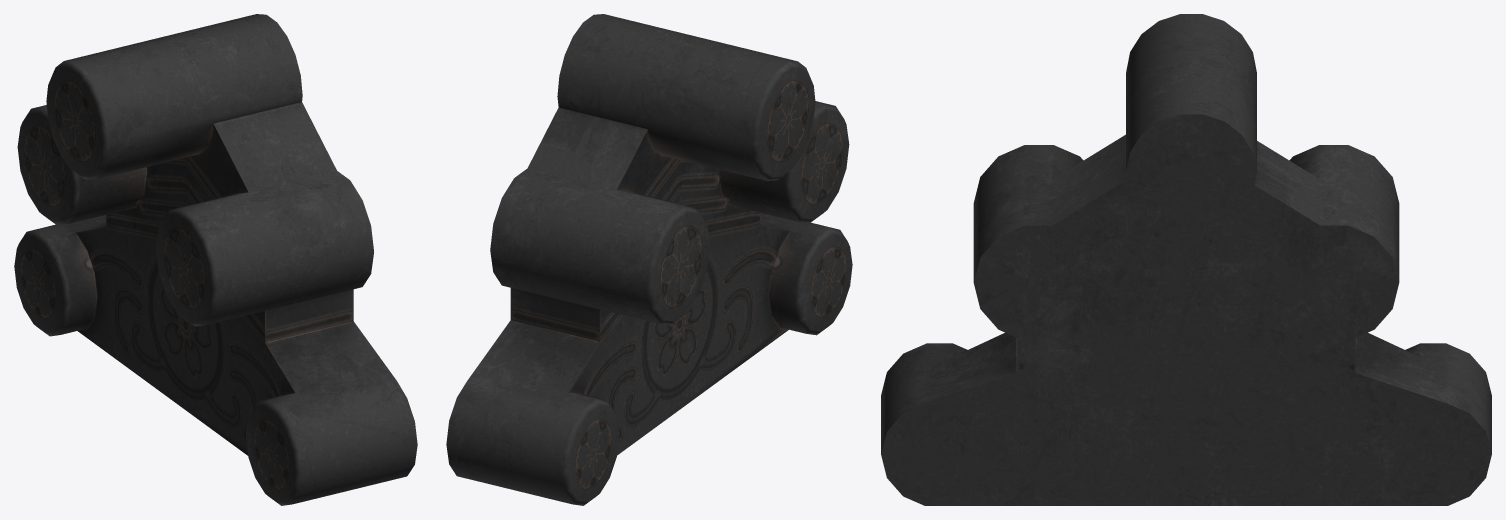
Rendered from SM_Roof_01_Ridge_End.fbx.
The picture shows the model from 3 angles, left to right: view 1: azimuth 30°, elevation 25°; view 2: azimuth 150°, elevation 25°; view 3: azimuth 270°, elevation 25°; orthographic projection. The views are drawn at different scales.
Parts seen in each view (by area): view 1: SM_Roof_01_Ridge_End_LOD0; view 2: SM_Roof_01_Ridge_End_LOD0; view 3: SM_Roof_01_Ridge_End_LOD0.
Boxes of the visible parts, bbox=[...] form: SM_Roof_01_Ridge_End_LOD0: bbox=[14, 14, 417, 505]; SM_Roof_01_Ridge_End_LOD0: bbox=[446, 14, 852, 505]; SM_Roof_01_Ridge_End_LOD0: bbox=[881, 14, 1491, 505].
Size of the model in its own units: 11.16 by 28.02 by 19.87.
